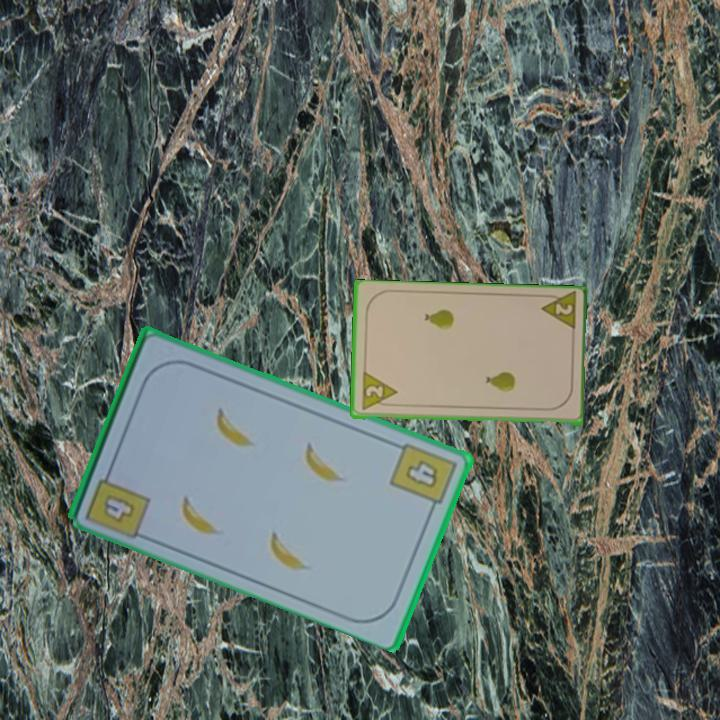2p: (537, 290, 579, 335), (362, 382, 386, 402)
4b: (386, 439, 460, 516), (103, 494, 135, 523)
